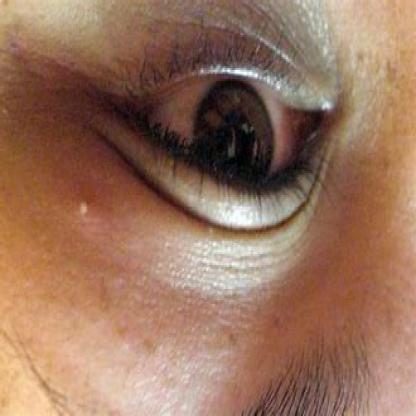Fire ant: (68, 179, 108, 241)
